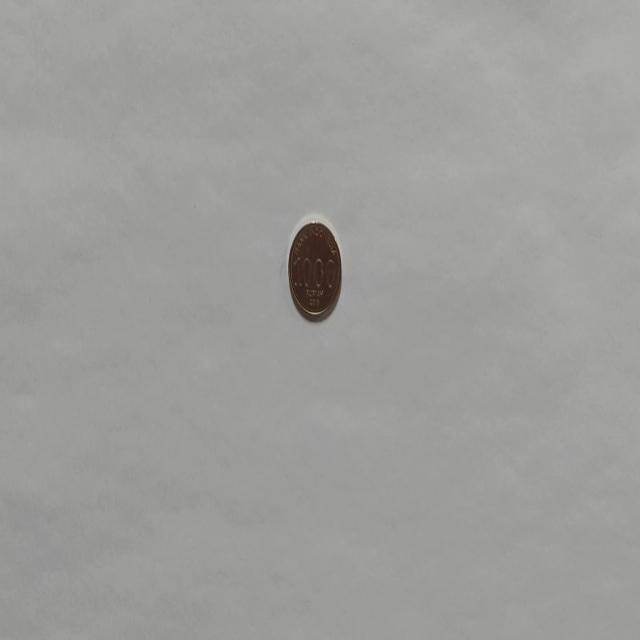seribu rupiah koin: (286, 215, 342, 323)
